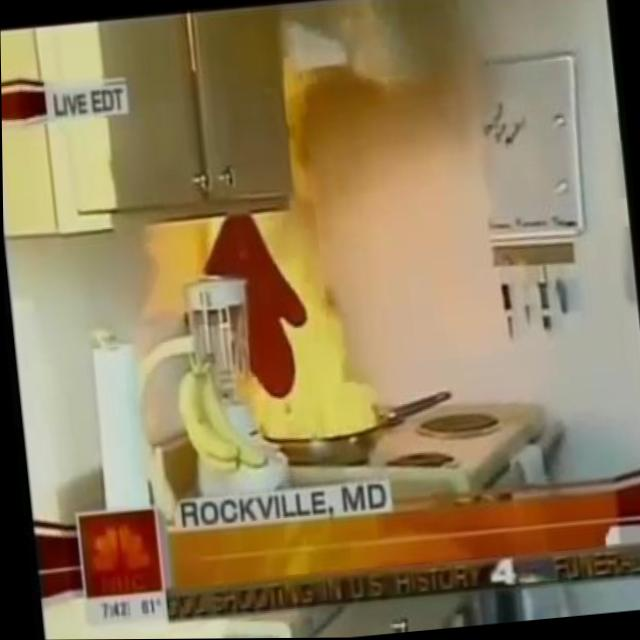fire: (180, 48, 412, 447)
